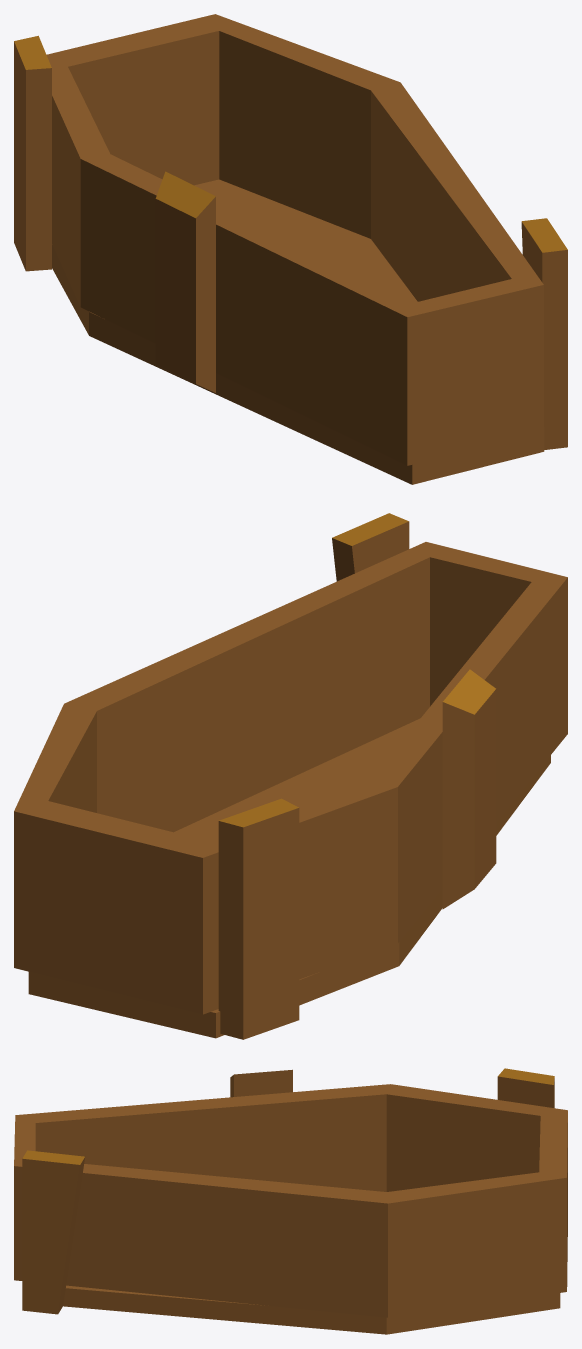
The model's file is caixao_base.fbx.
The picture shows the model from 3 angles, top to bottom: view 1: azimuth 30°, elevation 25°; view 2: azimuth 150°, elevation 25°; view 3: azimuth 270°, elevation 25°; orthographic projection. The views are drawn at different scales.
Parts seen in each view (by area): view 1: caixao_base; view 2: caixao_base; view 3: caixao_base.
Part boxes in pixels (<box>): caixao_base: <box>14,14,567,484</box>; caixao_base: <box>14,513,567,1039</box>; caixao_base: <box>14,1068,567,1334</box>.
Bounding box in the file's own units: 172 × 106 × 338.
